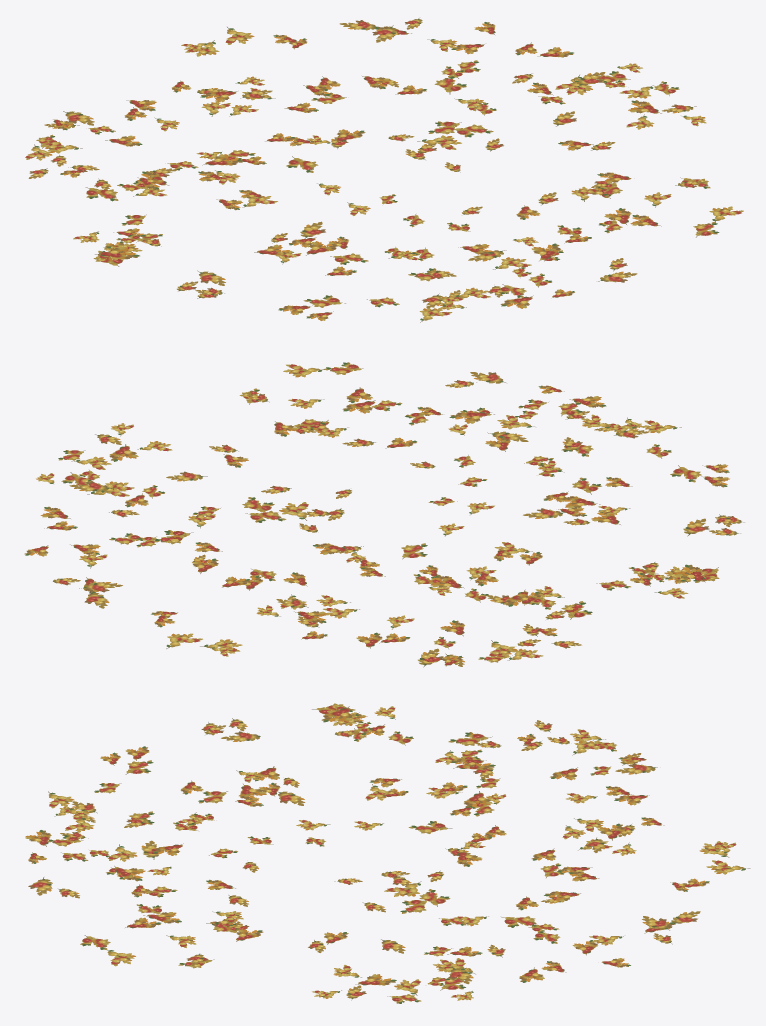
The model's file is pommier_adulte_c.fbx.
3 views of the same model, one above another, from view 1: azimuth 30°, elevation 25°; view 2: azimuth 150°, elevation 25°; view 3: azimuth 270°, elevation 25° (orthographic).
Parts seen in each view (by area): view 1: pommier_adulte_c_feuilles_sol; view 2: pommier_adulte_c_feuilles_sol; view 3: pommier_adulte_c_feuilles_sol.
Boxes of the visible parts, x1,y1,x2,y2 form: pommier_adulte_c_feuilles_sol: (25,18,743,322); pommier_adulte_c_feuilles_sol: (24,362,744,667); pommier_adulte_c_feuilles_sol: (25,703,750,1003).
Size of what is drawn, in the model's own units: 6.92 by 0.00599 by 6.93.
